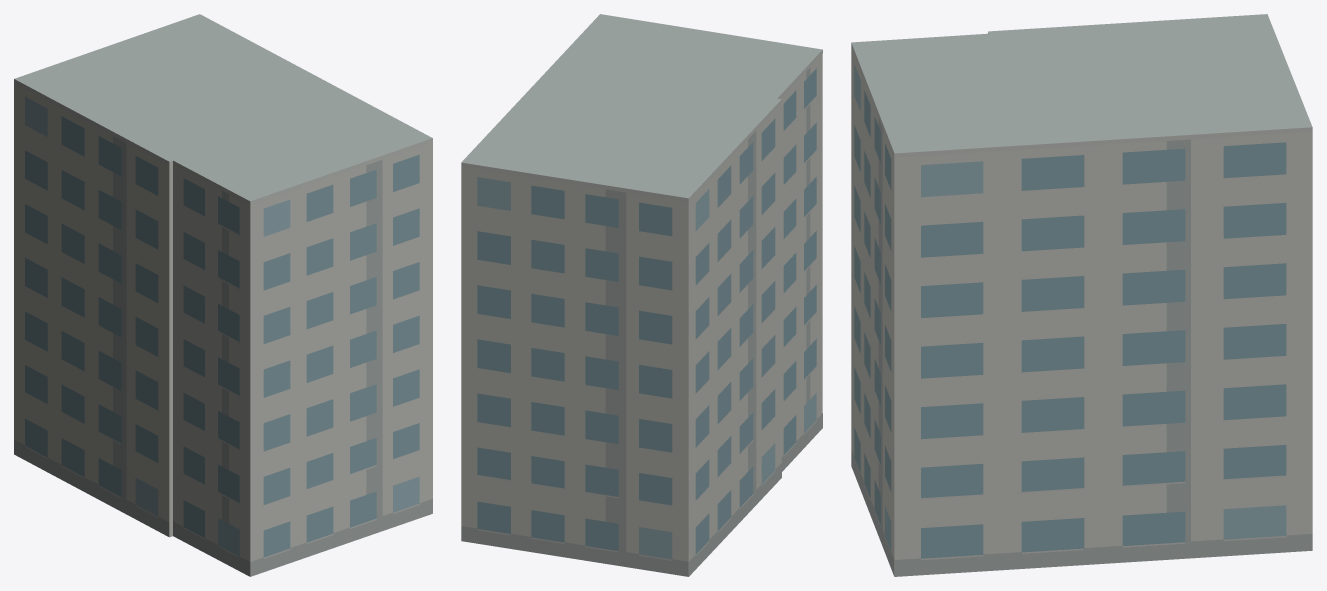
The model's file is survey-upis-32974257.glb.
The picture shows the model from 3 angles, left to right: view 1: azimuth 30°, elevation 25°; view 2: azimuth 150°, elevation 25°; view 3: azimuth 270°, elevation 25°; orthographic projection. The views are drawn at different scales.
Visible parts, largest first — view 1: survey-upis-32974257.tmp; view 2: survey-upis-32974257.tmp; view 3: survey-upis-32974257.tmp.
Boxes of the visible parts, left/top/right/bottom form: survey-upis-32974257.tmp: left=14, top=14, right=432, bottom=576; survey-upis-32974257.tmp: left=461, top=14, right=822, bottom=576; survey-upis-32974257.tmp: left=851, top=14, right=1312, bottom=576.
Bounding box in the file's own units: 15.97 × 22.6 × 22.32.
